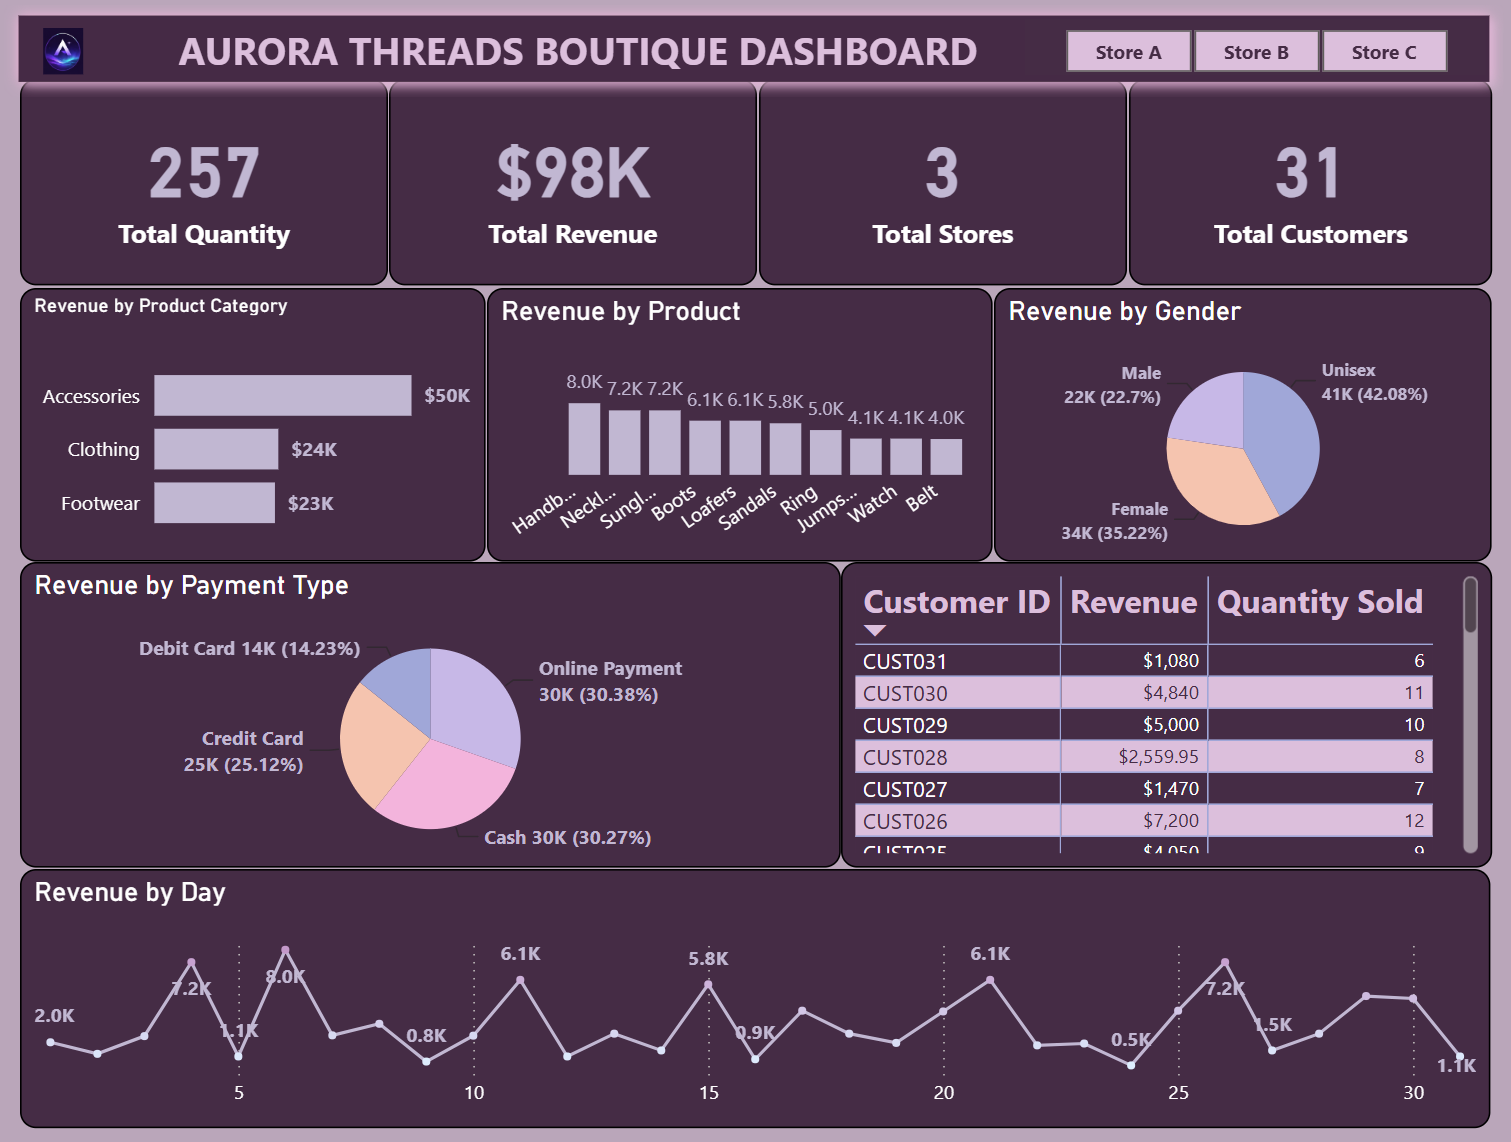

Layout of this report page (visuals, bound fields, positions):
{"tool":"powerbi","page":{"name":"Aurora Report","canvas":[1280,720],"ordinal":0},"visuals":[{"type":"card","fields":{"Values":["Sum(AuroraData.Revenue)"]},"box":[397.1,52.1,229.8,129],"z":0},{"type":"card","fields":{"Values":["AuroraData.Number of Stores"]},"box":[628.1,52.1,229.8,129],"z":1000},{"type":"card","fields":{"Values":["Count(AuroraData.Customer ID)"]},"box":[859.1,52.1,227.3,129],"z":2000},{"type":"clusteredBarChart","title":"Revenue by Product Category","fields":{"Y":["Sum(AuroraData.Revenue)"],"Category":["AuroraData.Category"]},"box":[166.1,182.3,290.6,170.8],"z":3000},{"type":"clusteredColumnChart","title":"Revenue by Product","fields":{"Y":["AuroraData.Average Revenue"],"Category":["AuroraData.Product"]},"box":[457.9,182.3,316.4,170.8],"z":4000},{"type":"lineChart","title":"Revenue by Day","fields":{"Y":["AuroraData.Average Revenue"],"Category":["AuroraData.Date.Variation.Date Hierarchy.Day"]},"box":[166.1,545.4,919,161.6],"z":5000},{"type":"pieChart","title":"Revenue by Gender","fields":{"Category":["AuroraData.Gender"],"Y":["AuroraData.Total Revenue"]},"box":[774.9,182.3,311.5,170.8],"z":6000},{"type":"pieChart","title":"Revenue by Payment Type","fields":{"Category":["AuroraData.Payment Type"],"Y":["AuroraData.Total Revenue"]},"box":[166.1,353.7,513,191.1],"z":7000},{"type":"pivotTable","fields":{"Rows":["AuroraData.Customer ID"],"Values":["Sum(AuroraData.Revenue)","AuroraData.Total Quantity Sold"]},"box":[679.7,353.7,406.7,191.1],"z":8000},{"type":"card","fields":{"Values":["Sum(AuroraData.Quantity)"]},"box":[166.1,52.1,230,129],"z":9000},{"type":"shape","box":[156.3,2.9,937.5,59.6],"z":10000},{"type":"image","box":[178.5,20,28.9,29.5],"z":11000},{"type":"slicer","fields":{"Values":["AuroraData.Store"]},"box":[794.4,14.4,287.5,35],"z":12000}]}

Visuals, with their boxes on the page's 1280x720 design canvas (x1, y1, x2, y2). These are canvas units, not pixel positions in the 1511x1142 screenshot, which may show the page scaled, cropped or inside an application window:
card - Sum(AuroraData.Revenue): pyautogui.locateOnScreen(397, 52, 627, 181)
card - AuroraData.Number of Stores: pyautogui.locateOnScreen(628, 52, 858, 181)
card - Count(AuroraData.Customer ID): pyautogui.locateOnScreen(859, 52, 1086, 181)
"Revenue by Product Category" clusteredBarChart: pyautogui.locateOnScreen(166, 182, 457, 353)
"Revenue by Product" clusteredColumnChart: pyautogui.locateOnScreen(458, 182, 774, 353)
"Revenue by Day" lineChart: pyautogui.locateOnScreen(166, 545, 1085, 707)
"Revenue by Gender" pieChart: pyautogui.locateOnScreen(775, 182, 1086, 353)
"Revenue by Payment Type" pieChart: pyautogui.locateOnScreen(166, 354, 679, 545)
pivotTable - AuroraData.Customer ID x Sum(AuroraData.Revenue): pyautogui.locateOnScreen(680, 354, 1086, 545)
card - Sum(AuroraData.Quantity): pyautogui.locateOnScreen(166, 52, 396, 181)
shape: pyautogui.locateOnScreen(156, 3, 1094, 62)
image: pyautogui.locateOnScreen(178, 20, 207, 50)
slicer - AuroraData.Store: pyautogui.locateOnScreen(794, 14, 1082, 49)
